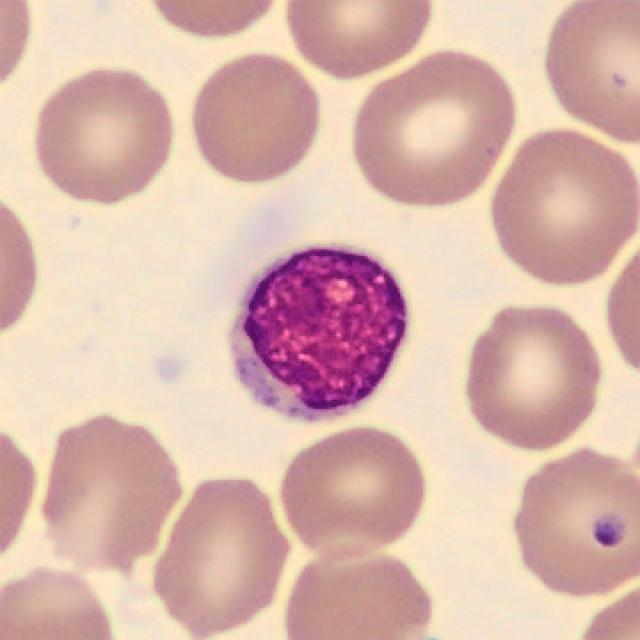Linfocito: (233, 249, 405, 418)
